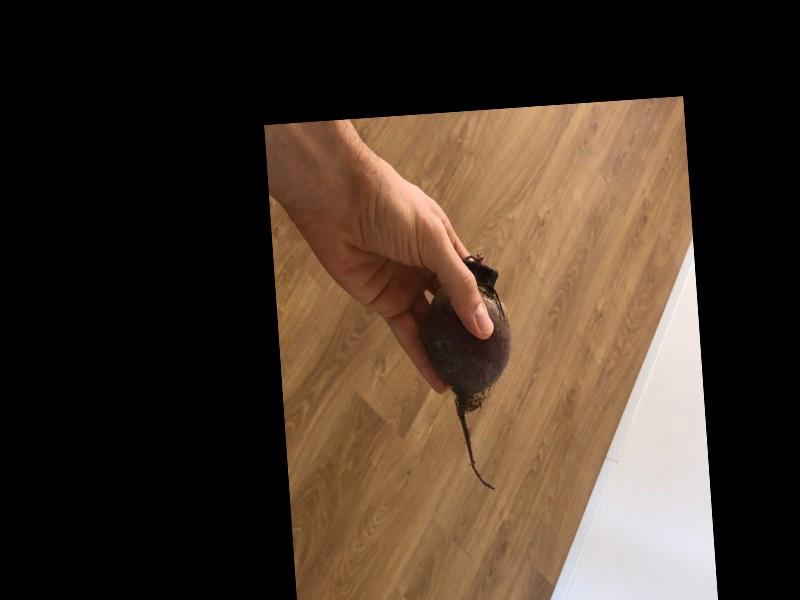Beet: (420, 253, 520, 494)
